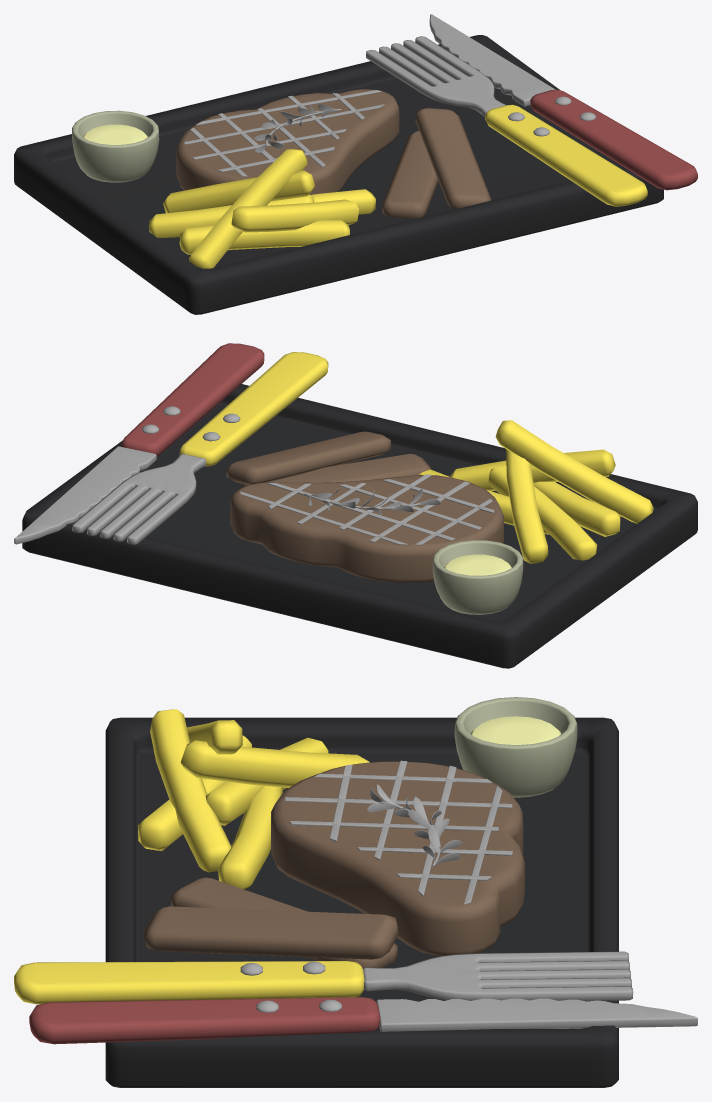
File: Steak.fbx
The picture shows the model from 3 angles, top to bottom: view 1: azimuth 30°, elevation 25°; view 2: azimuth 150°, elevation 25°; view 3: azimuth 270°, elevation 25°; orthographic projection. The views are drawn at different scales.
Visible parts, largest first — view 1: S_Steak; view 2: S_Steak; view 3: S_Steak.
Part boxes in pixels (left/top/right/bottom): S_Steak: left=14, top=14, right=697, bottom=314; S_Steak: left=14, top=343, right=697, bottom=668; S_Steak: left=14, top=697, right=697, bottom=1087.
Size of the model in its own units: 422 by 85.36 by 370.
